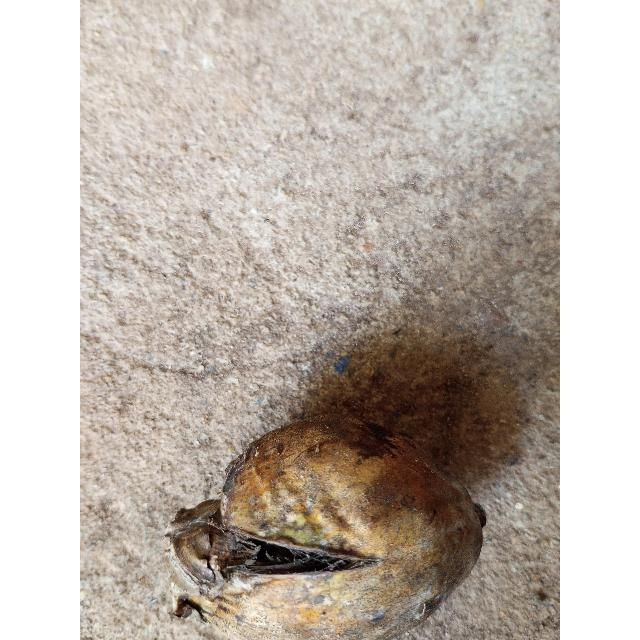damaged: (166, 414, 486, 640)
